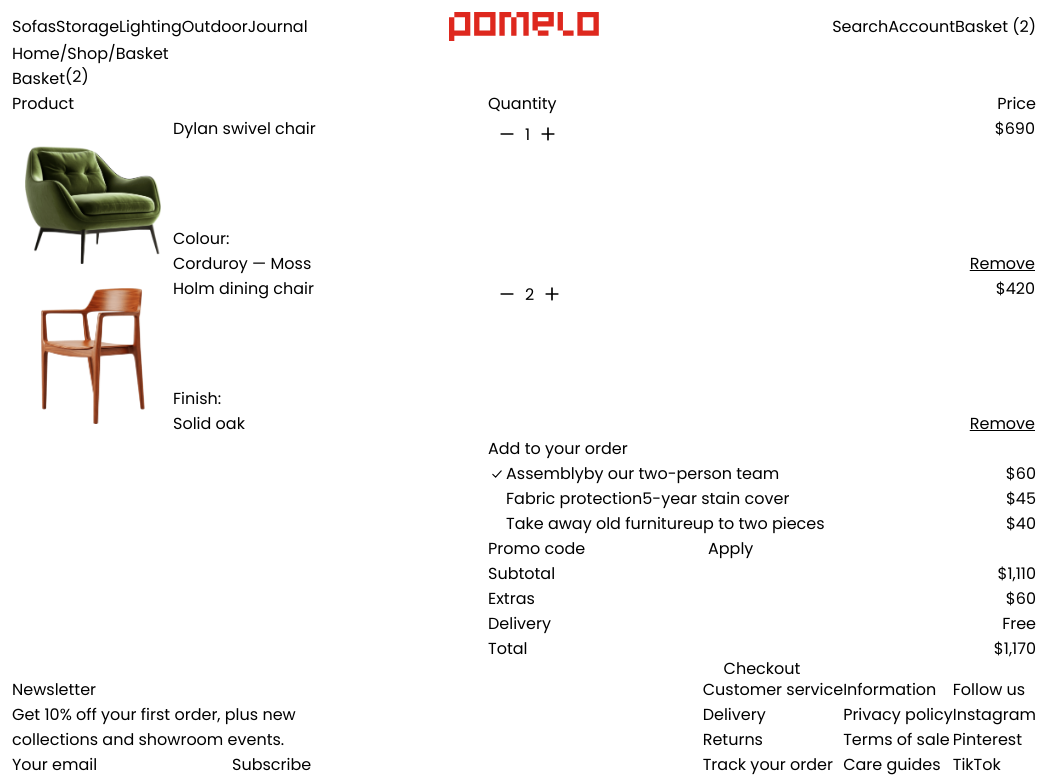
Scenario: the published screens › empties to a link back to the shop
Click the button with aria-label "Remove Dylan swivel chair".
click(1002, 264)  # box [970, 251, 1035, 276]
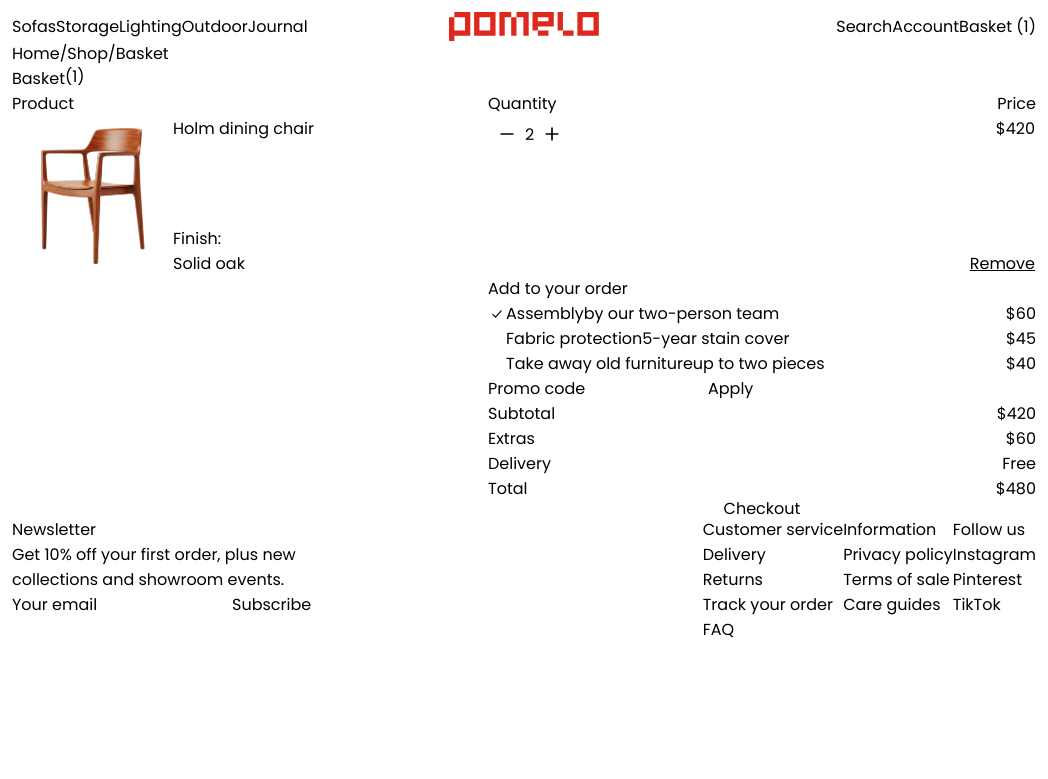
Click the button with aria-label "Remove Holm dining chair".
click(1002, 264)  # box [970, 251, 1035, 276]
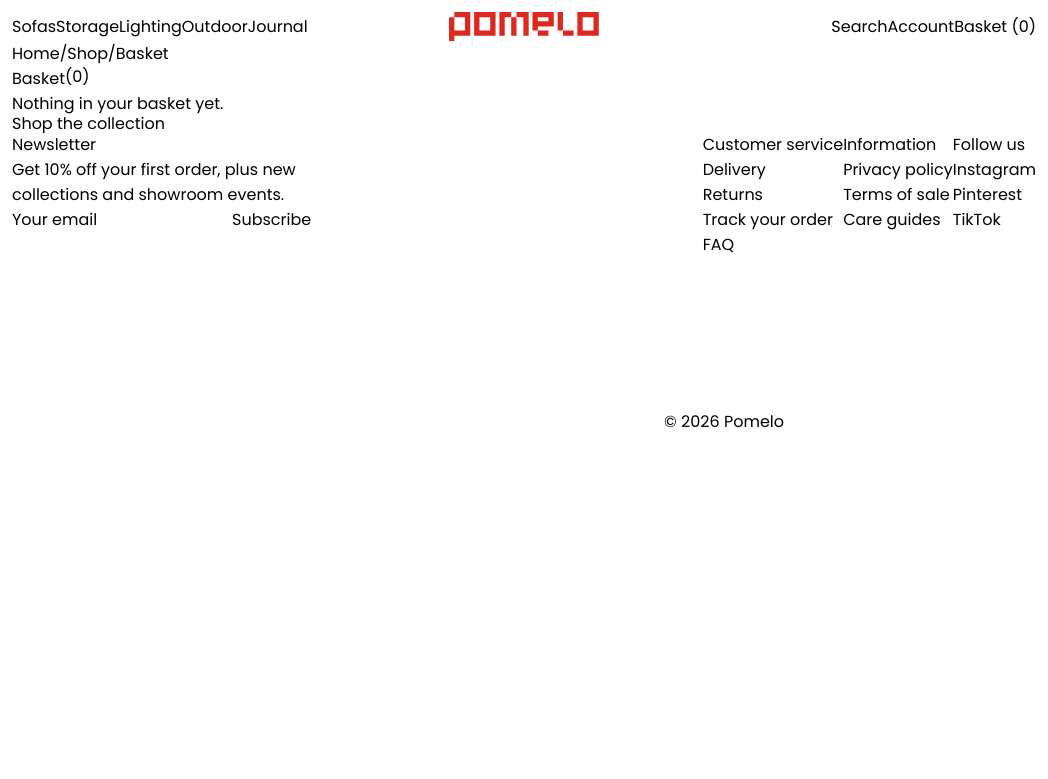
Expected: the text "Nothing in your basket yet." is shown, [12, 91, 223, 116]
